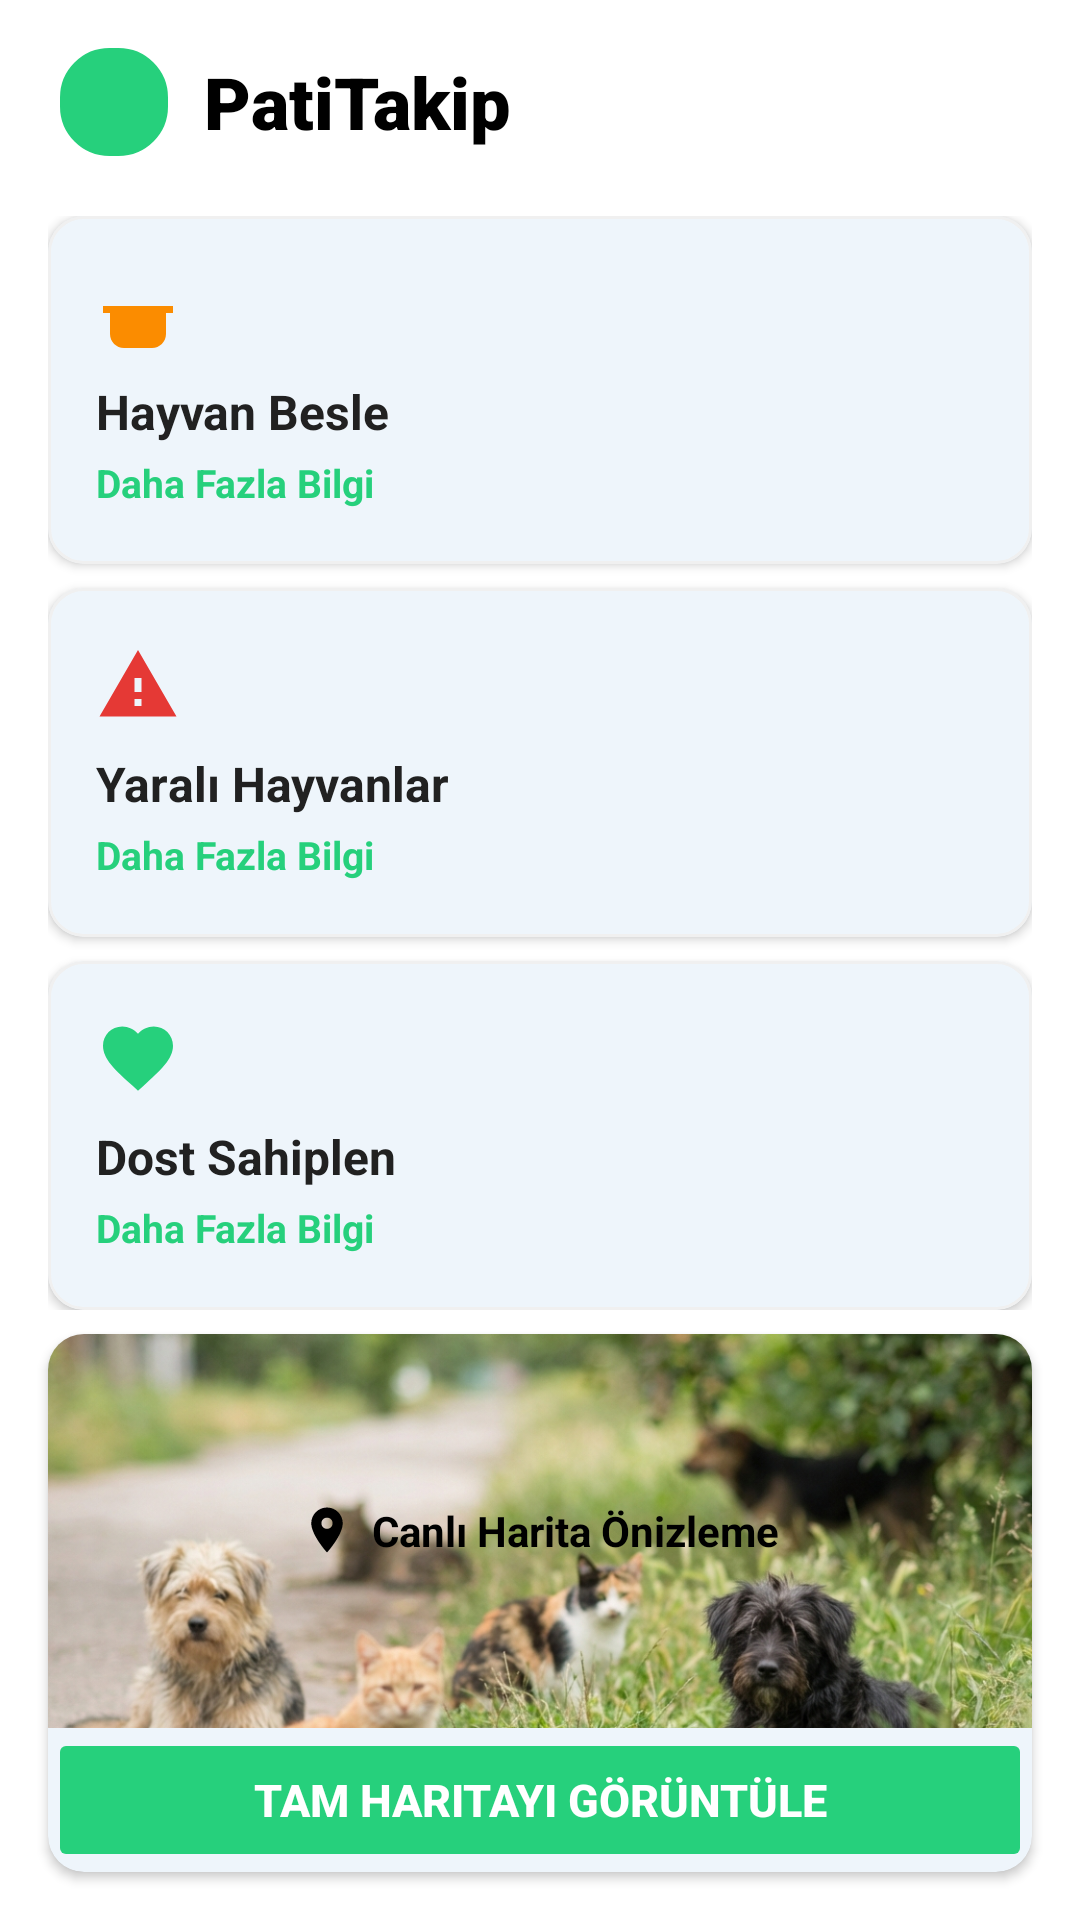

Screen size 1080px x 1920px. Icon name, then its center in pixels as (x=x, y=y):
İhbar: (x=138, y=683)
location: (x=327, y=1530)
Sahiplendir: (x=138, y=1058)
